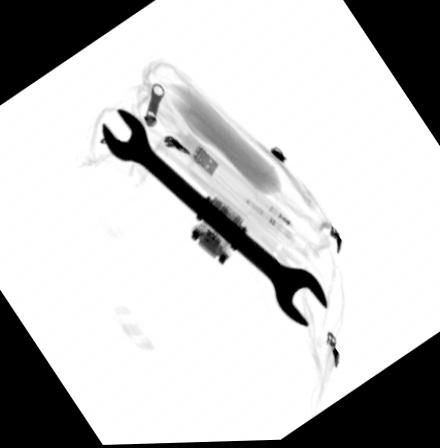Wrench: (100, 106, 328, 328)
